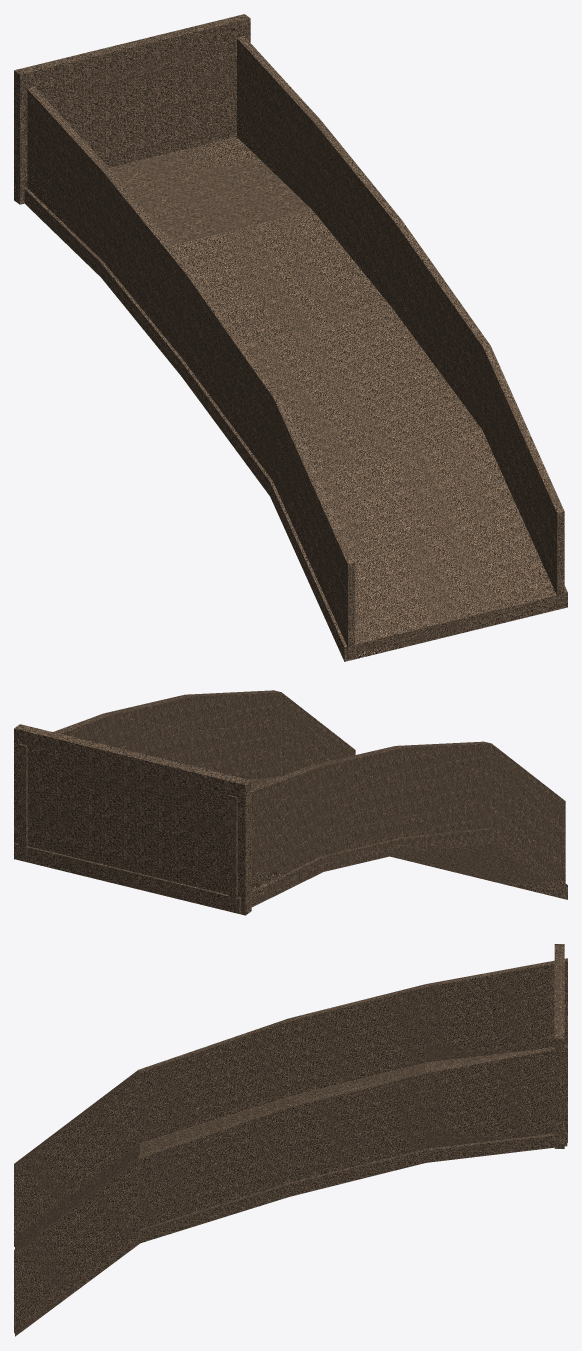
Rendered from planeGroundMap_entrance.glb.
The picture shows the model from 3 angles, top to bottom: view 1: azimuth 30°, elevation 25°; view 2: azimuth 150°, elevation 25°; view 3: azimuth 270°, elevation 25°; orthographic projection. The views are drawn at different scales.
Visible parts, largest first — view 1: entrance, entrance.001, entrance.002, entrance.003; view 2: entrance.001, entrance.003, entrance.002, entrance; view 3: entrance.002, entrance.001, entrance, entrance.003.
Part boxes in pixels (<box>): entrance: <box>24,137,567,661</box>; entrance.001: <box>27,87,355,659</box>; entrance.002: <box>237,36,564,608</box>; entrance.003: <box>14,14,250,204</box>; entrance.001: <box>228,741,565,911</box>; entrance.003: <box>14,724,251,915</box>; entrance.002: <box>18,690,355,859</box>; entrance: <box>15,776,567,913</box>; entrance.002: <box>14,1044,567,1333</box>; entrance.001: <box>14,958,567,1246</box>; entrance: <box>15,1048,567,1336</box>; entrance.003: <box>554,944,564,1148</box>.
Bounding box in the file's own units: 220 × 323 × 542.
1 material, 1 textured.
